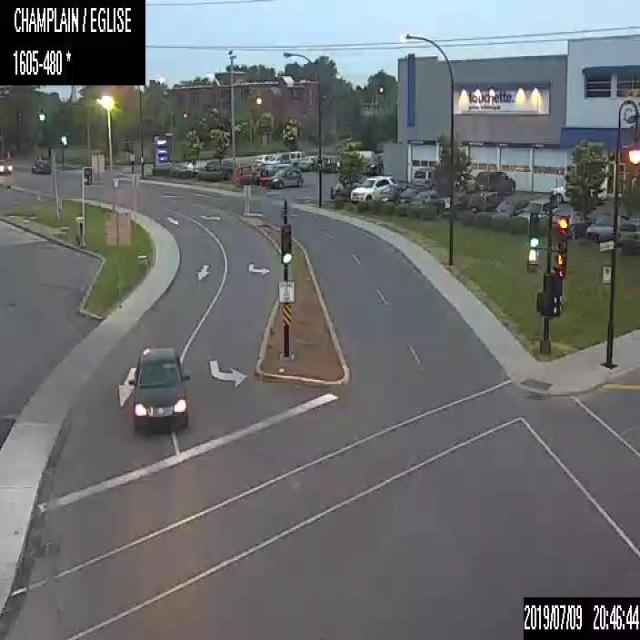vehicle: (126, 344, 191, 432), (586, 211, 628, 242), (350, 174, 397, 201), (520, 198, 559, 222), (559, 211, 592, 238), (409, 189, 444, 214), (476, 170, 514, 193), (260, 168, 302, 188), (617, 214, 639, 247), (329, 176, 362, 198), (494, 198, 529, 218), (466, 190, 499, 210), (371, 182, 405, 200), (358, 148, 378, 172), (412, 166, 433, 187), (248, 166, 274, 182), (398, 186, 421, 204), (552, 182, 570, 202), (312, 155, 336, 170), (253, 153, 280, 165), (297, 154, 318, 169), (216, 159, 238, 173), (31, 158, 50, 173), (0, 157, 13, 175), (281, 149, 304, 159), (273, 163, 290, 172), (205, 160, 219, 169), (334, 157, 341, 170)
